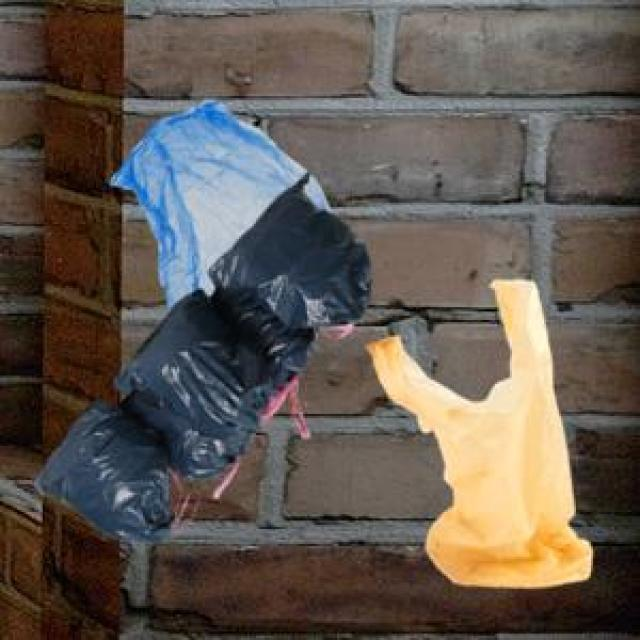miscellaneous trash: (30, 169, 367, 540)
